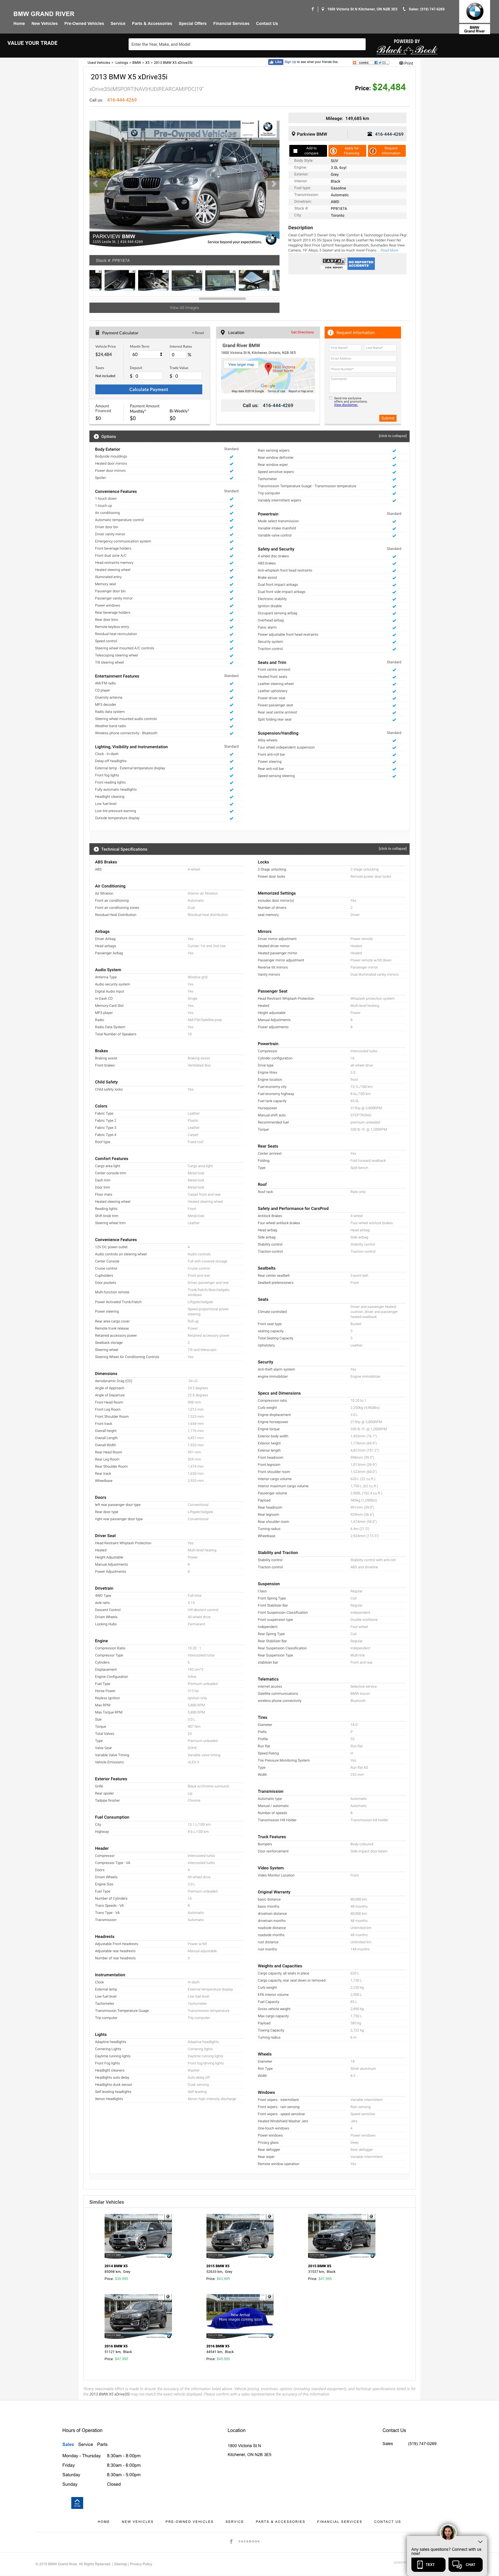car: (268, 177, 281, 191)
